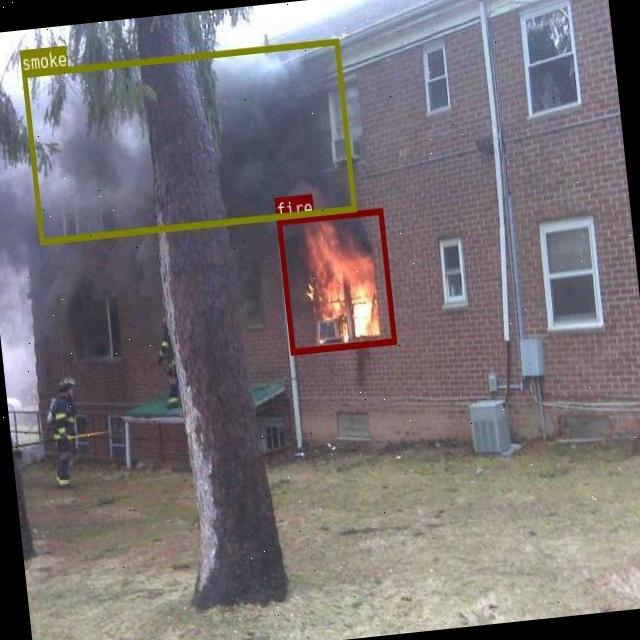fire: (276, 207, 395, 353)
smoke: (21, 37, 356, 243)
